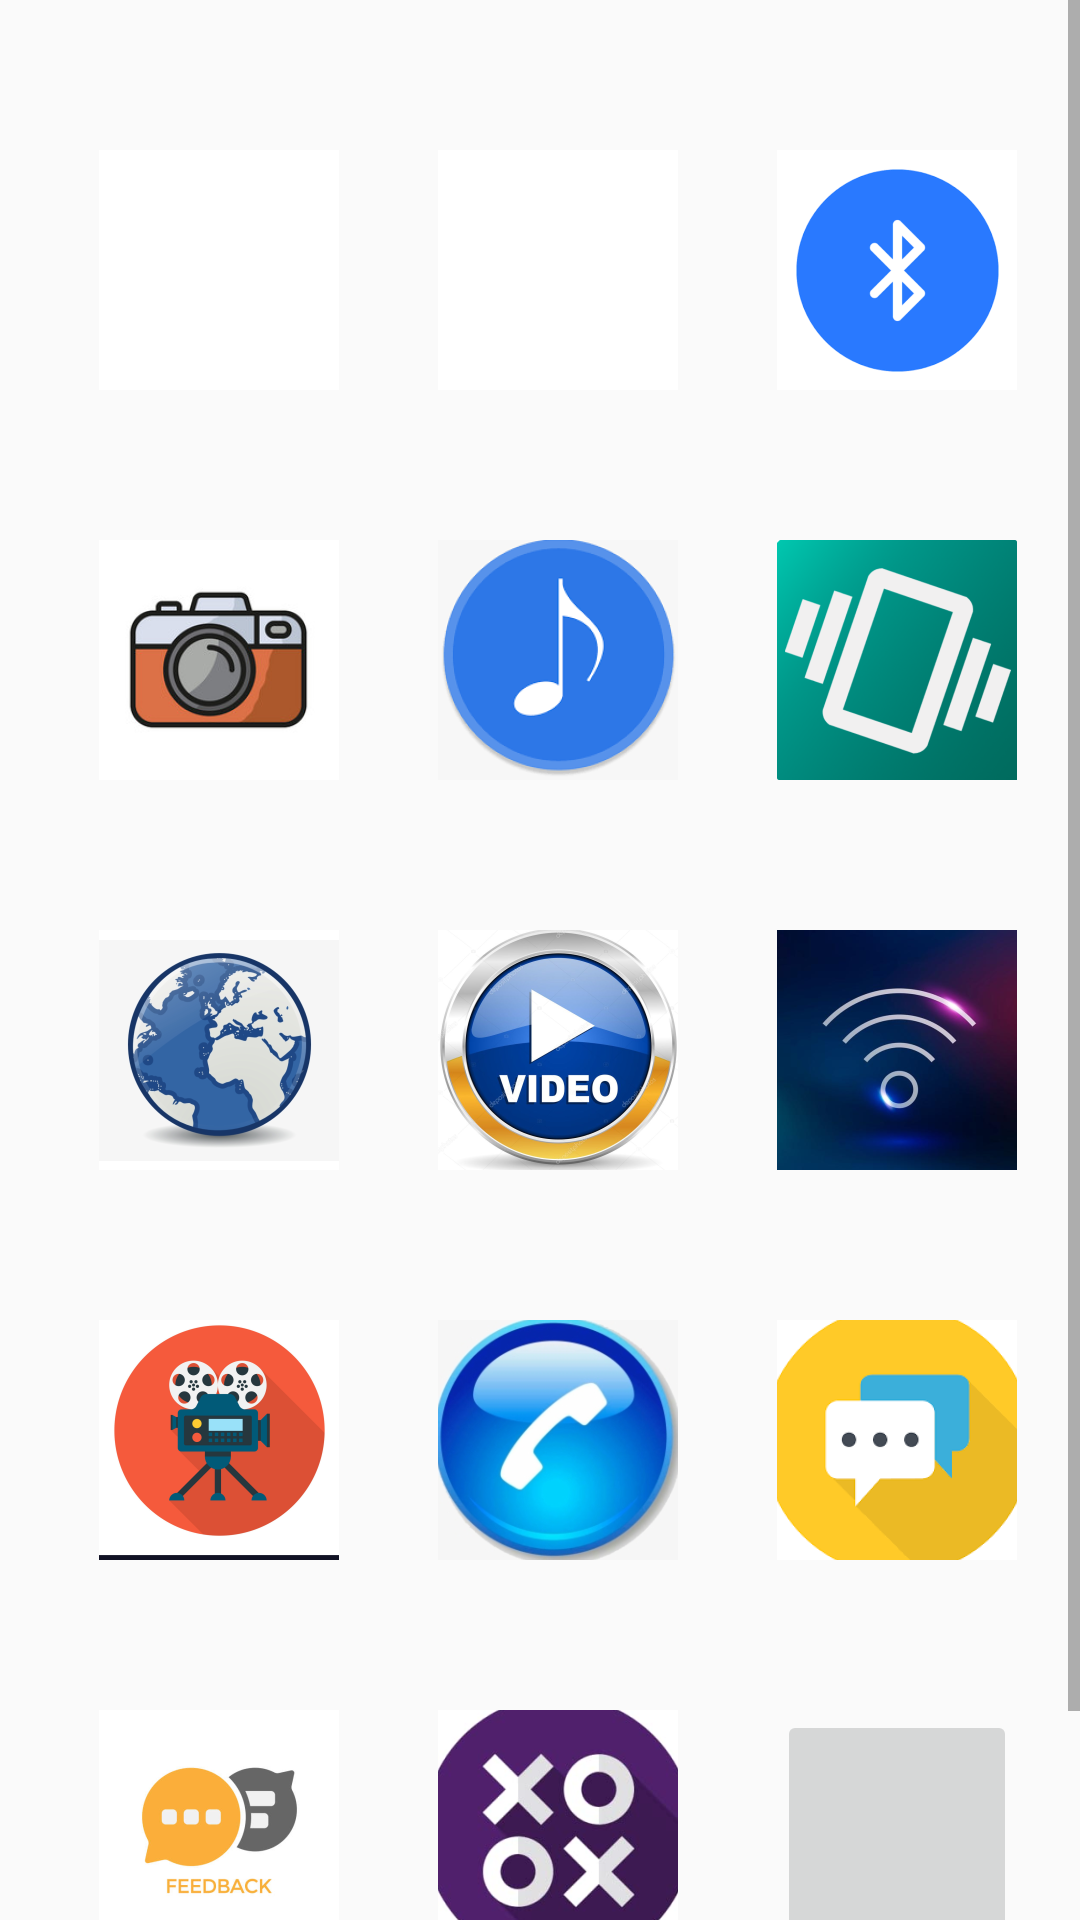

Icon click points for this 1080px x 1920px phone screenshot, format point (x, y):
browser: point (219, 1050)
call: point (558, 1440)
camera: point (218, 659)
message: point (897, 1440)
music: point (558, 657)
vedioplayer: point (558, 1050)
vibration: point (897, 660)
video recorder: point (219, 1442)
wifi: point (897, 1050)
